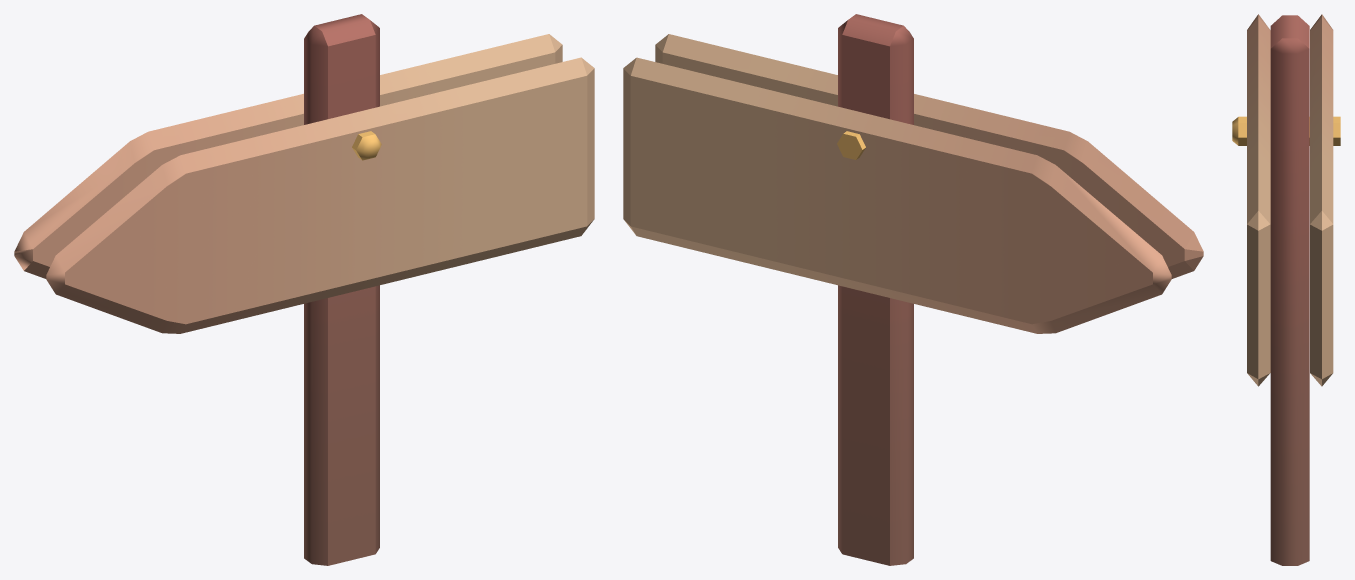
Rendered from Sign_Mesh_01.fbx.
The picture shows the model from 3 angles, left to right: view 1: azimuth 30°, elevation 25°; view 2: azimuth 150°, elevation 25°; view 3: azimuth 270°, elevation 25°; orthographic projection.
Visible parts, largest first — view 1: Sign_01; view 2: Sign_01; view 3: Sign_01.
Part boxes in pixels (<box>): Sign_01: <box>14,14,594,565</box>; Sign_01: <box>623,14,1203,565</box>; Sign_01: <box>1232,14,1340,565</box>.
Size of the model in its own units: 1.71 by 1.58 by 0.2959.
